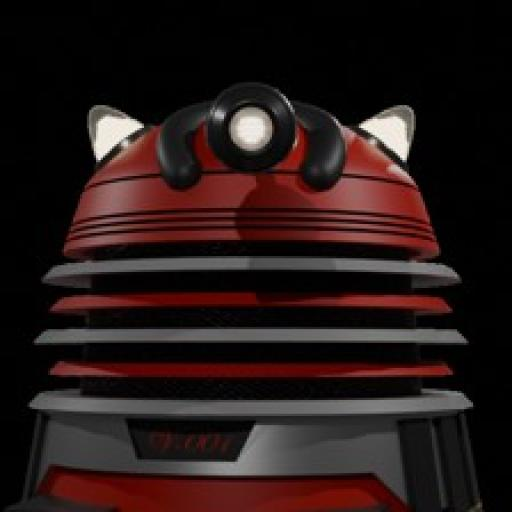dalek: (20, 78, 482, 512)
